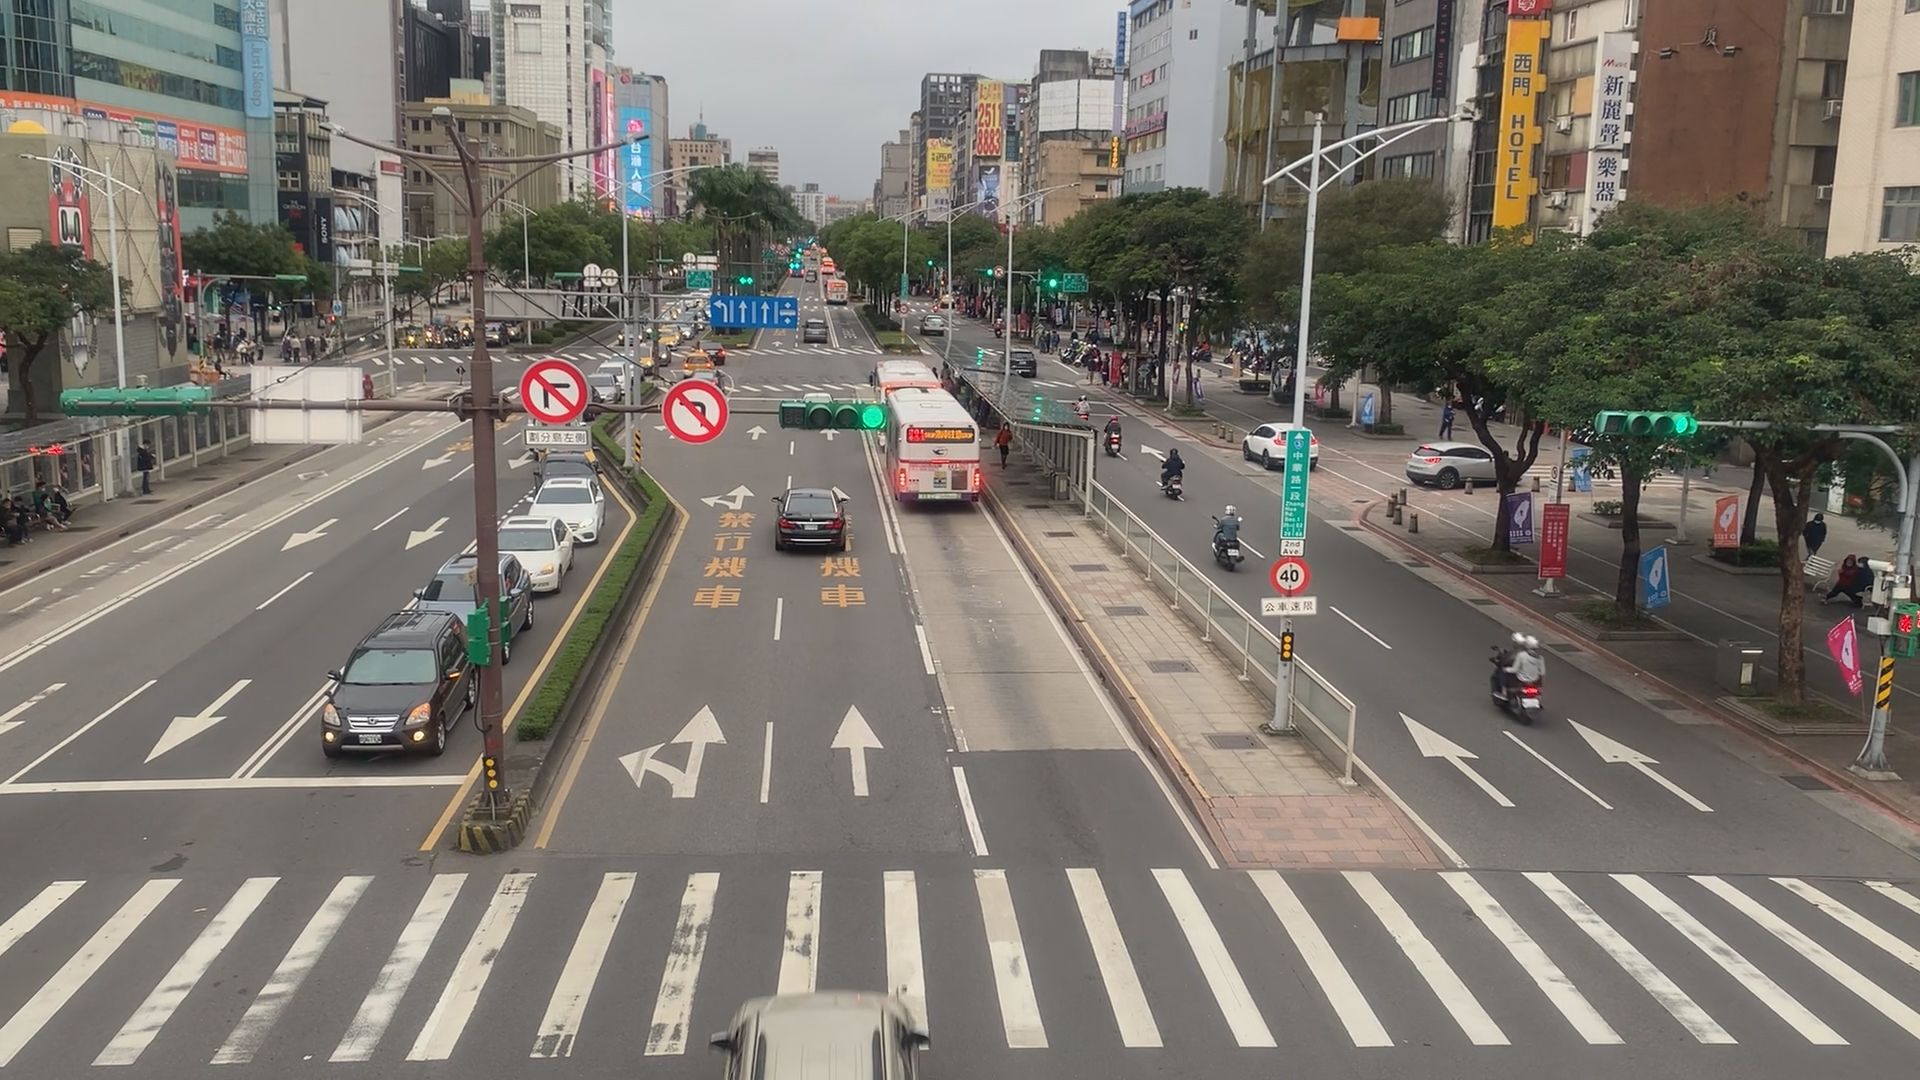Bus: (893, 386, 986, 502), (866, 348, 938, 431), (822, 276, 852, 305), (822, 256, 843, 284)
Business Passenger Car: (679, 349, 723, 377)
Motorcycle: (1497, 618, 1563, 728), (1203, 495, 1254, 574), (1154, 435, 1193, 510), (1095, 409, 1135, 475), (1073, 386, 1108, 439)
Private Passenger Car: (712, 978, 971, 1080), (311, 618, 469, 767), (397, 537, 534, 667), (1234, 415, 1340, 485), (1398, 429, 1520, 487), (517, 473, 608, 545), (771, 480, 849, 563), (492, 520, 582, 587), (530, 448, 607, 505), (580, 368, 628, 413), (996, 339, 1042, 378), (694, 336, 736, 367), (796, 316, 835, 349), (916, 311, 956, 340)
